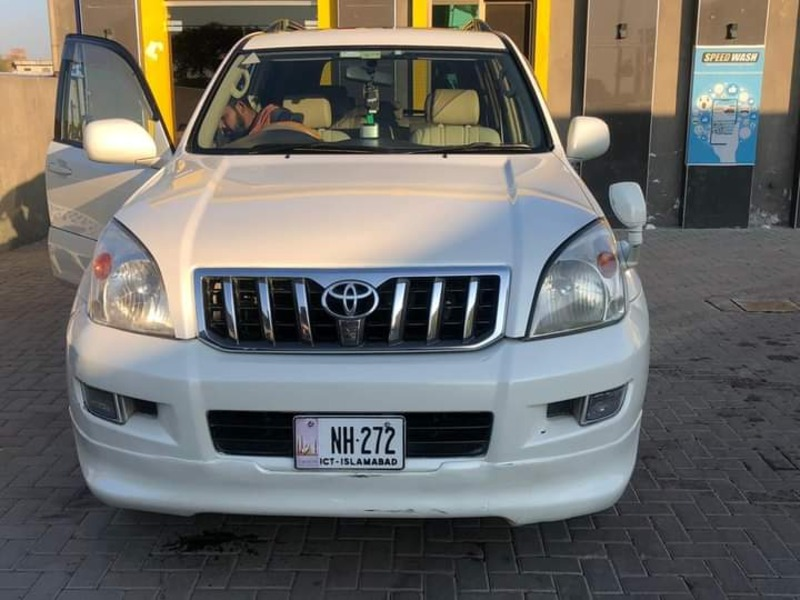License Plate: (290, 409, 409, 478)
